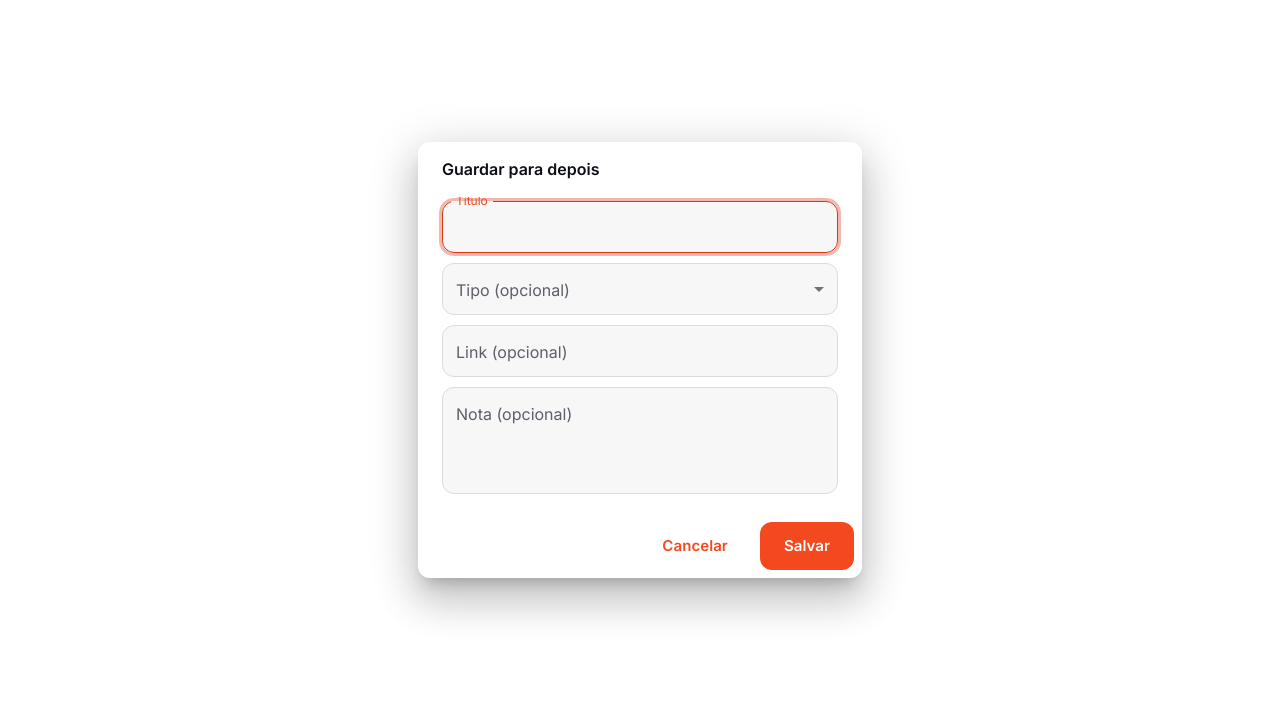
Test: QuickCaptureDialog › shows a validation error for an empty title
Click the button "Salvar" at (807, 546), box [760, 522, 854, 570]
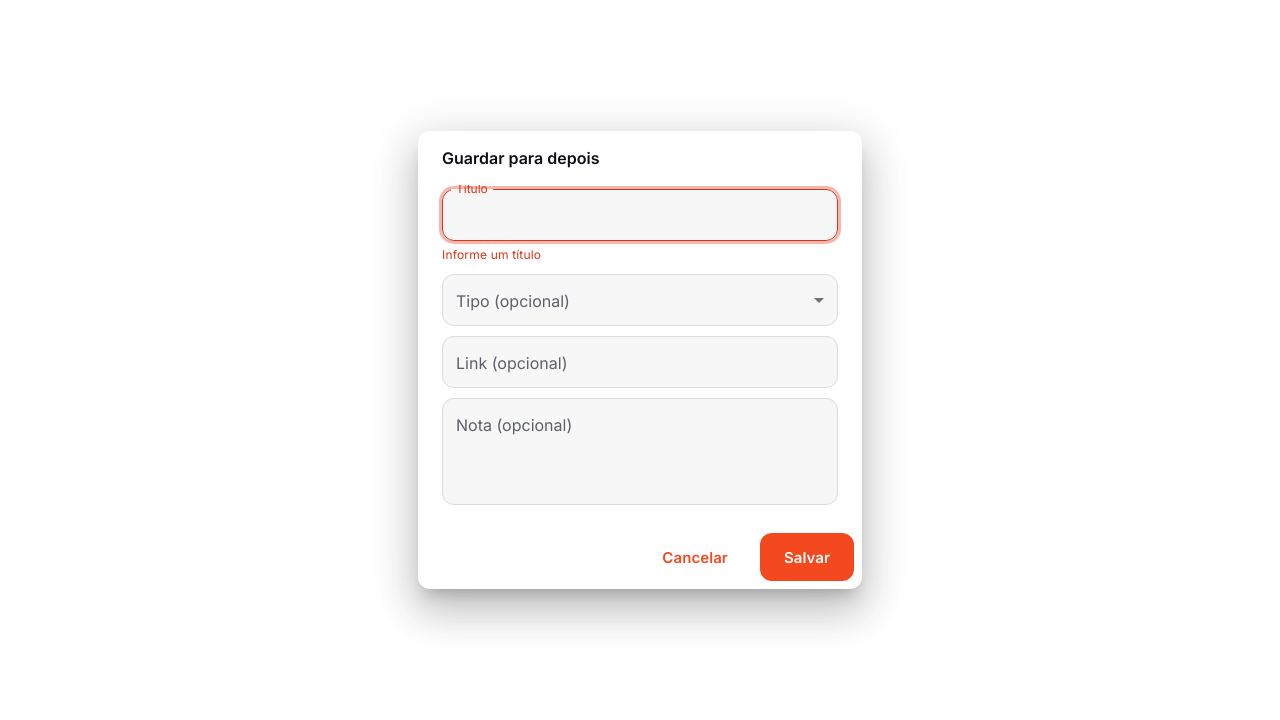
Now the text "Informe um título" is shown, box [442, 247, 541, 262]
